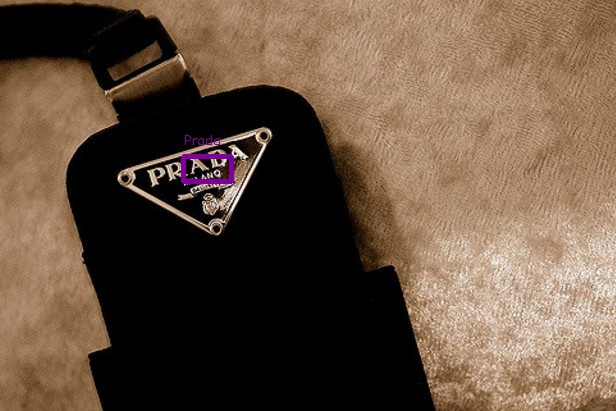Prada: (142, 145, 250, 185)
